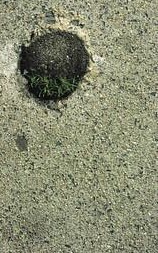Spalling: (17, 29, 90, 102)
